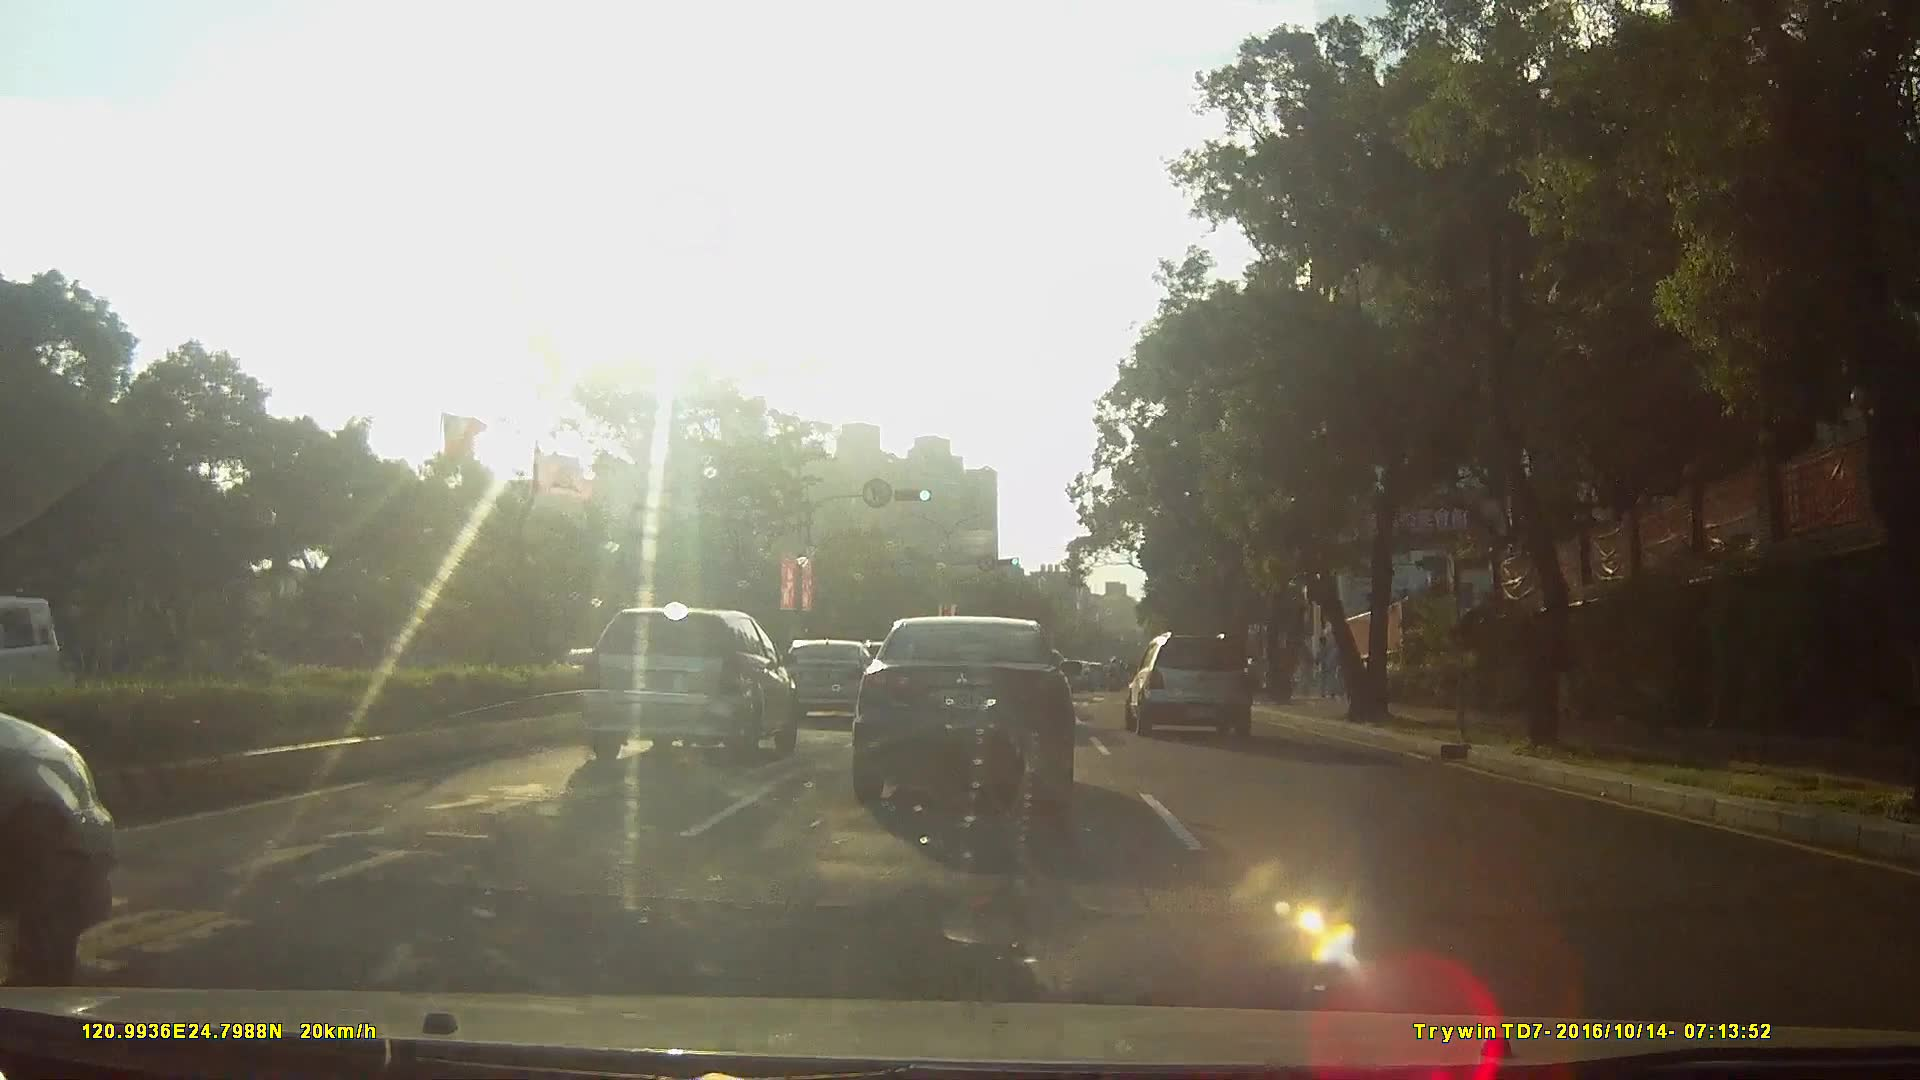pedestrian: (1315, 635, 1335, 709)
vehicle: (851, 610, 1079, 815), (1, 688, 133, 993), (575, 605, 796, 765), (1124, 634, 1267, 741), (773, 642, 886, 726), (1, 599, 68, 714)
